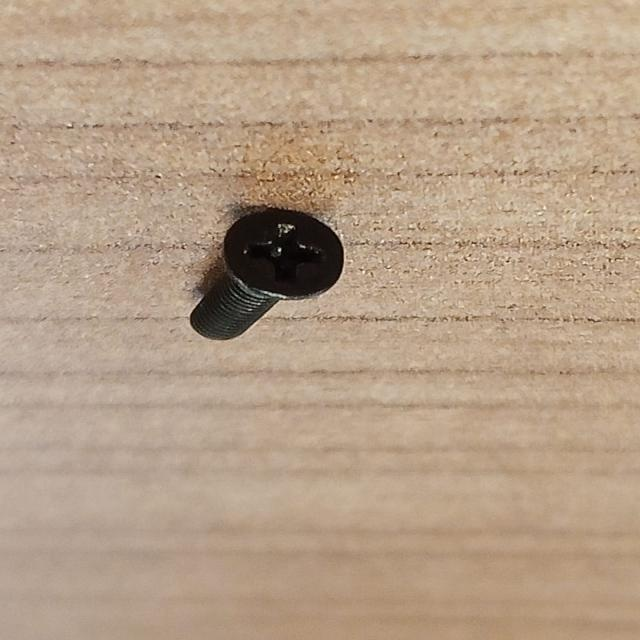phillips: (222, 208, 345, 302)
